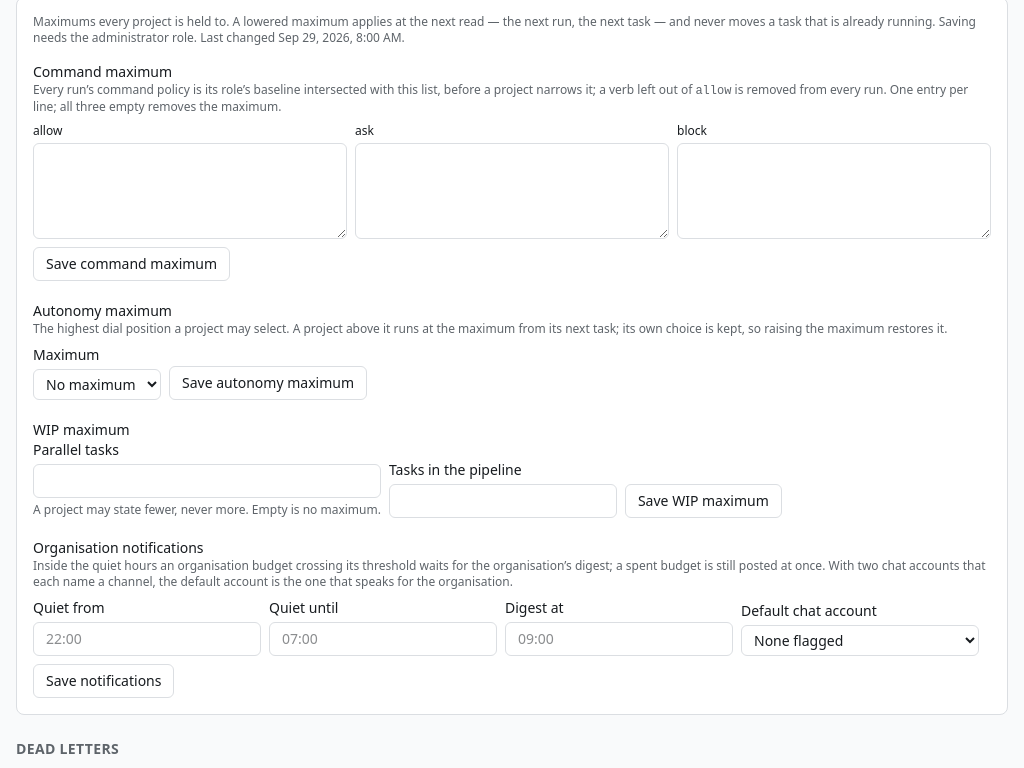
Test: the organisation settings document on the settings page › says which projects a lowered maximum caps, before and after, with the key as text (WP-113)
The width and height of the screenshot is (1024, 768).
(page scrolled)
Select "assist" in the dropdown named "Organisation autonomy maximum" at (97, 384), box [33, 369, 161, 400]
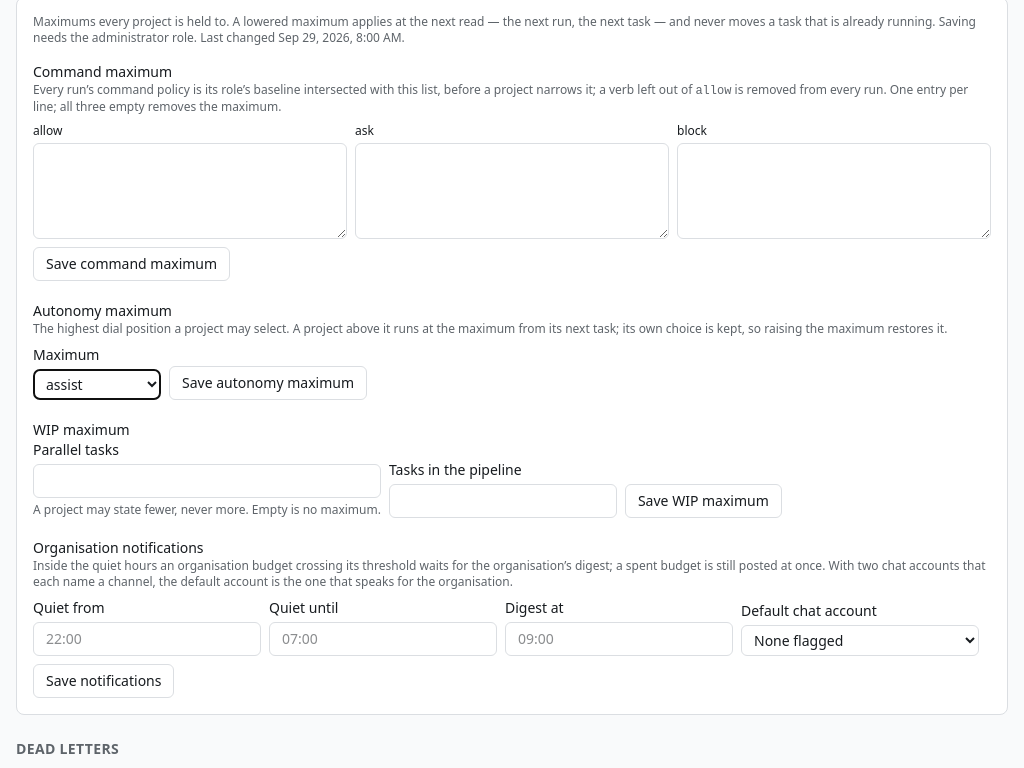
Click the button "Save autonomy maximum".
click(268, 383)  # box [169, 366, 367, 400]
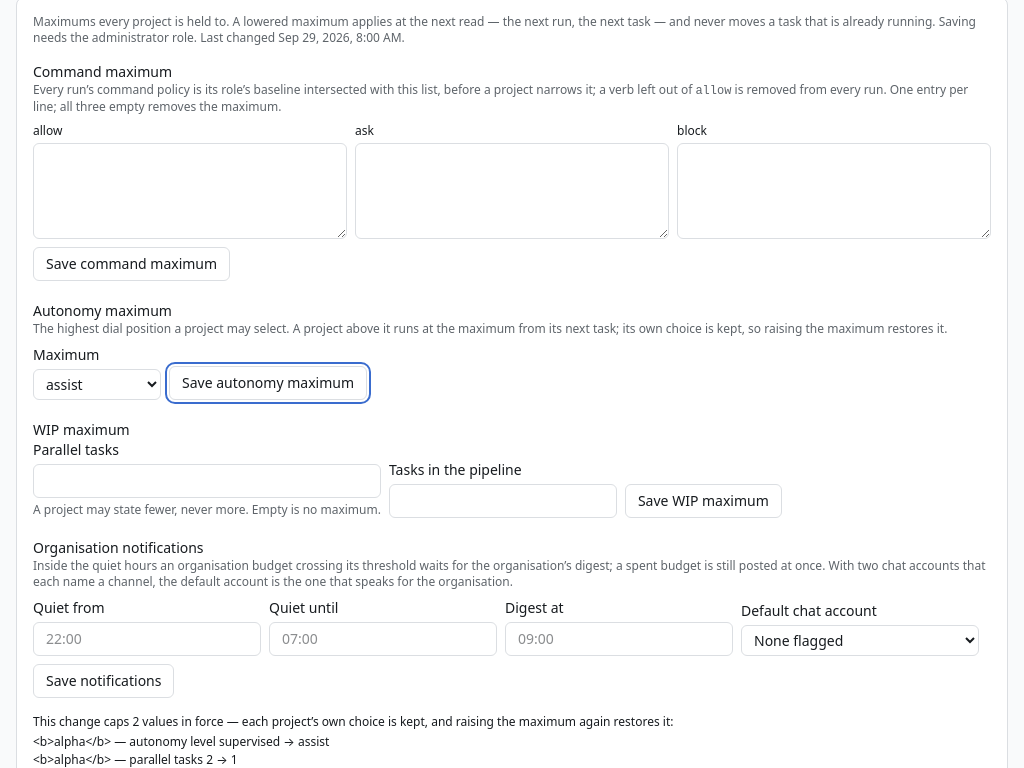
Expected: the list named "Projects this change caps" shows "parallel tasks 2 → 1", [33, 733, 329, 767]
Expected: the text "raising the maximum again restores it" is shown, [178, 713, 673, 730]
